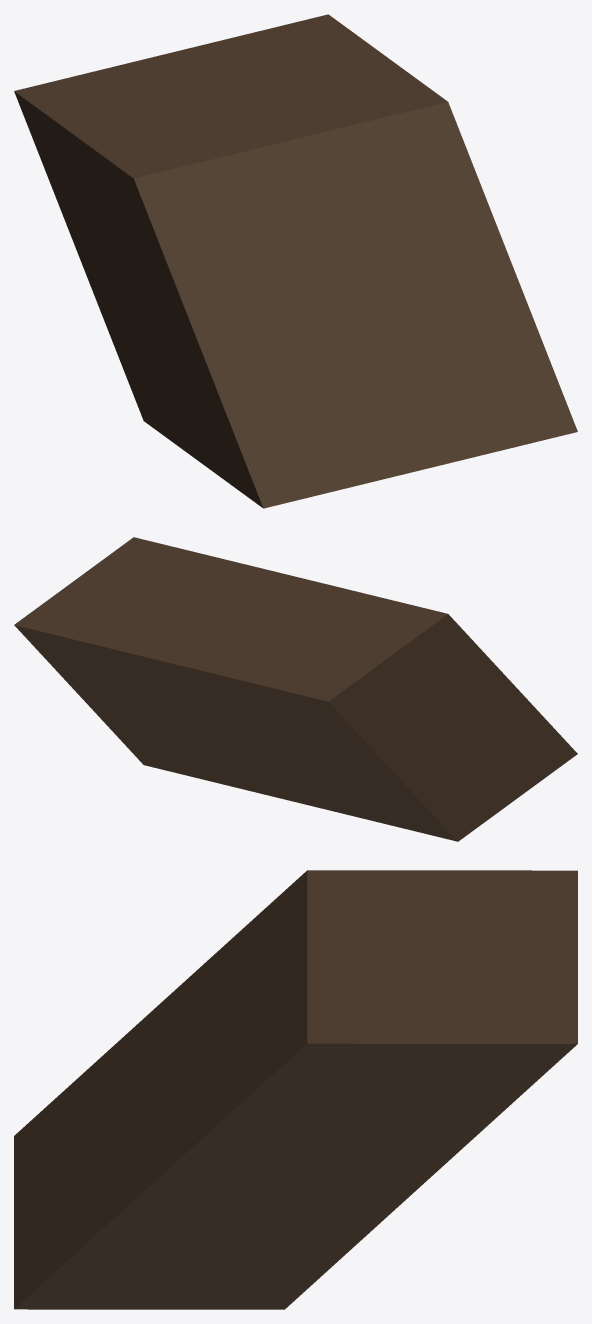
File: buildings-roof-wood-edge-bottom.glb
3 renders of one model, top to bottom at view 1: azimuth 30°, elevation 25°; view 2: azimuth 150°, elevation 25°; view 3: azimuth 270°, elevation 25°, orthographic. The views are drawn at different scales.
Visible parts, largest first — view 1: roof-wood-edge-bottom; view 2: roof-wood-edge-bottom; view 3: roof-wood-edge-bottom.
Part boxes in pixels (box(x1,y1,x2,y2)): roof-wood-edge-bottom: box(14, 14, 577, 508); roof-wood-edge-bottom: box(14, 537, 577, 841); roof-wood-edge-bottom: box(14, 870, 577, 1309).
Size of the model in its own units: 0.7 by 0.5003 by 0.962.
